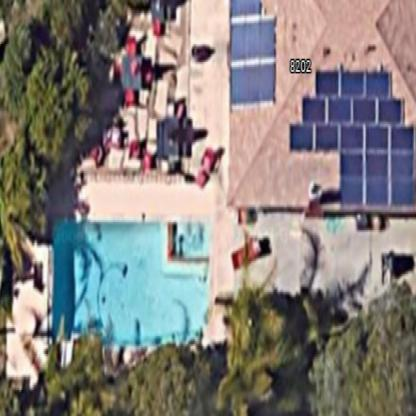pool: (41, 204, 215, 352)
